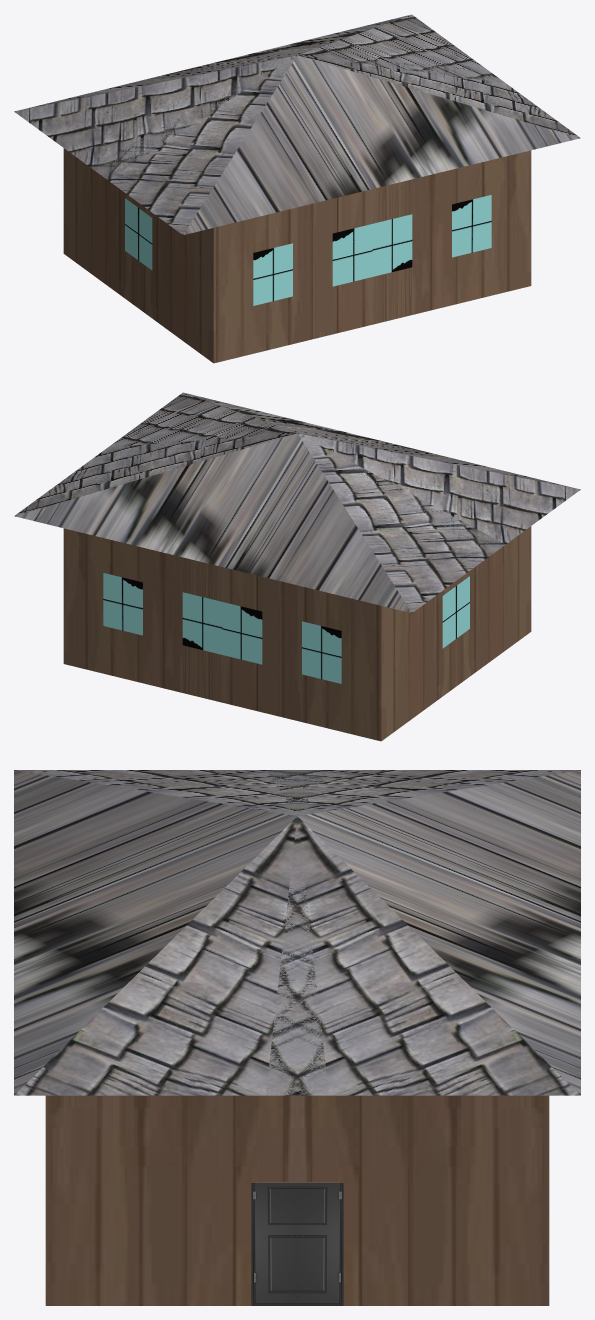
File: house.fbx
3 renders of one model, top to bottom at view 1: azimuth 30°, elevation 25°; view 2: azimuth 150°, elevation 25°; view 3: azimuth 270°, elevation 25°, orthographic. The views are drawn at different scales.
Parts seen in each view (by area): view 1: House; view 2: House; view 3: House.
Part boxes in pixels (bbox=[...]): House: bbox=[14, 14, 580, 363]; House: bbox=[14, 392, 580, 741]; House: bbox=[14, 770, 580, 1305].
Size of the model in its own units: 1057 by 545 by 778.
